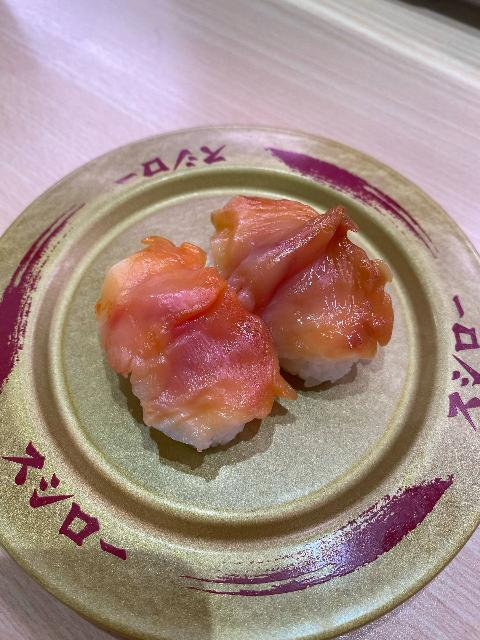jangold: (0, 166, 461, 584)
